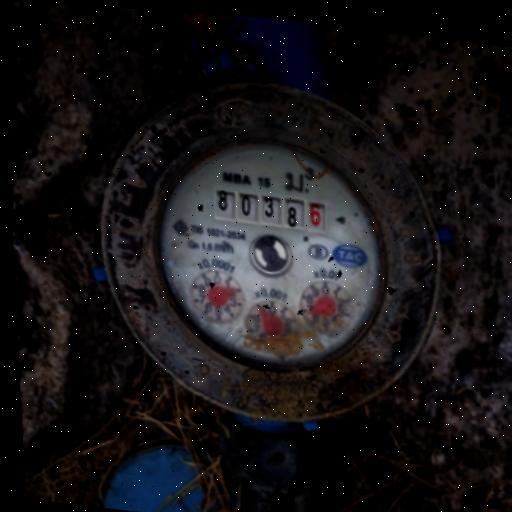0: (239, 195, 260, 221)
3: (262, 195, 279, 221)
6: (308, 203, 326, 229)
8: (215, 192, 236, 219), (285, 200, 306, 227)
border_water_meter_number: (207, 185, 334, 236)
